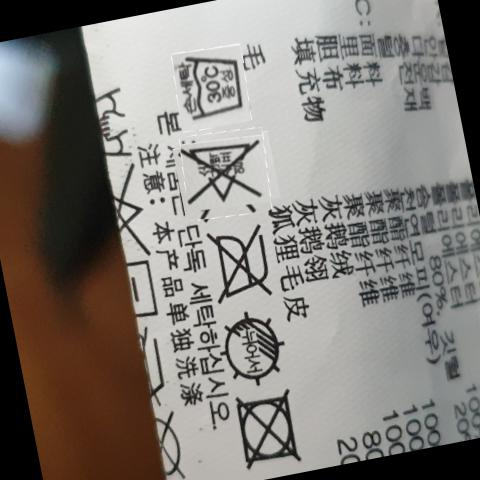DN_bleach: (184, 135, 263, 208)
DN_iron: (211, 223, 273, 301)
DN_tumble_dry: (241, 389, 302, 470)
dry_flat_in_shade: (228, 309, 287, 385)
hand_wash: (178, 49, 243, 123), (100, 82, 135, 165)
